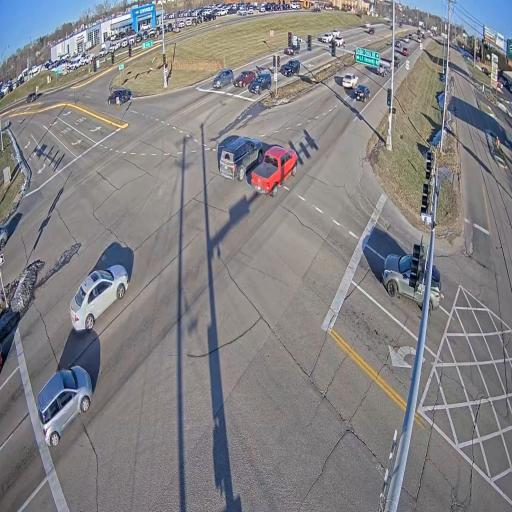pickup: (251, 146, 297, 197), (363, 22, 370, 28), (421, 32, 425, 39)
sedan: (37, 366, 93, 446)
suv: (70, 264, 129, 330), (383, 254, 425, 306), (218, 137, 263, 181), (429, 265, 444, 310), (248, 71, 272, 95), (213, 69, 233, 89), (233, 70, 255, 87), (281, 59, 300, 76), (355, 84, 370, 102), (342, 73, 358, 89), (284, 39, 300, 55), (334, 36, 345, 47), (26, 92, 37, 102), (378, 64, 387, 76), (322, 33, 332, 43), (332, 29, 341, 37), (402, 47, 409, 55), (394, 56, 399, 66), (395, 41, 401, 47), (404, 35, 409, 42), (368, 29, 374, 34), (417, 36, 421, 42)
van: (107, 88, 132, 105)
